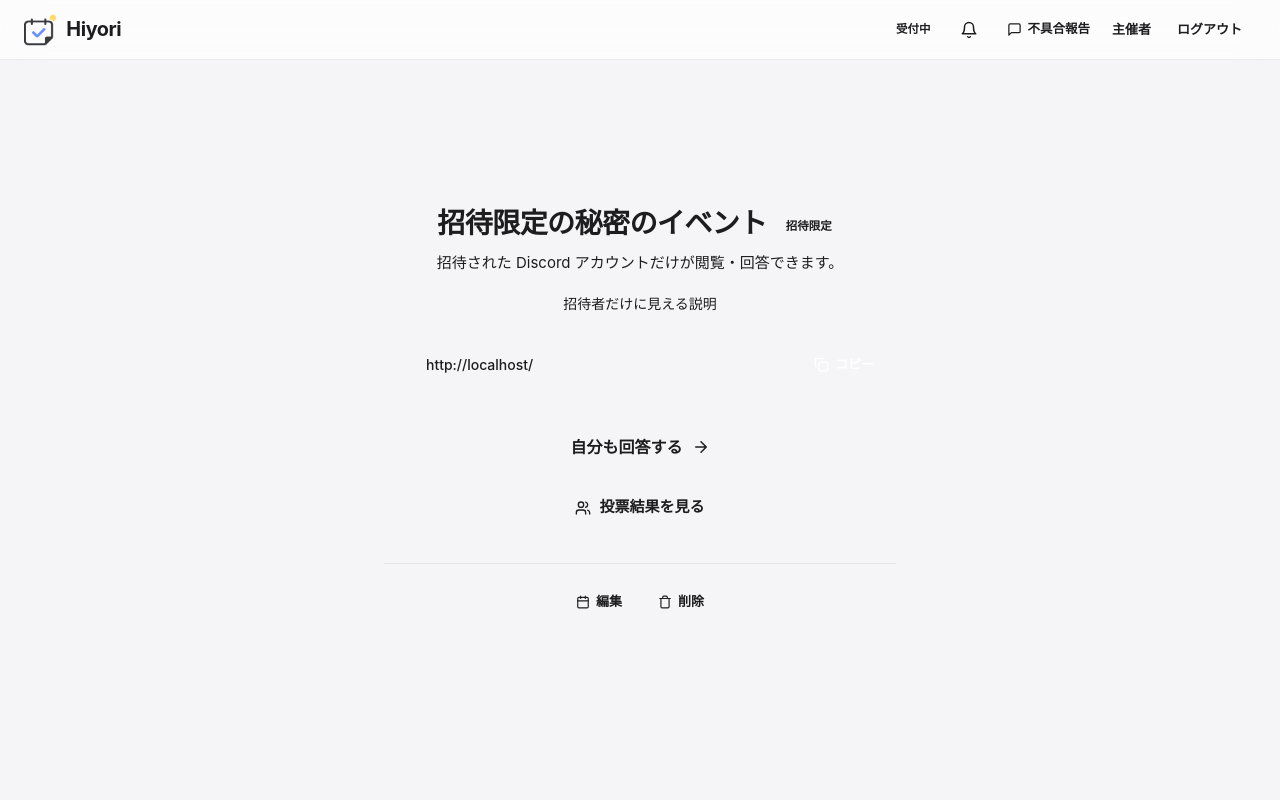
it: イベント詳細 のログアウト › 成功時に表示中の私的データを消し、古い読み込みが後から完了しても戻さない
This screenshot has width=1280, height=800.
Expected: the heading "招待限定の秘密のイベント" is shown, [437, 202, 767, 244]
ログアウトより前の認証付き読み込みを残し、応答を意図的に遅らせる。
Click the button "ログアウト".
click(1210, 30)  # box [1163, 12, 1256, 47]
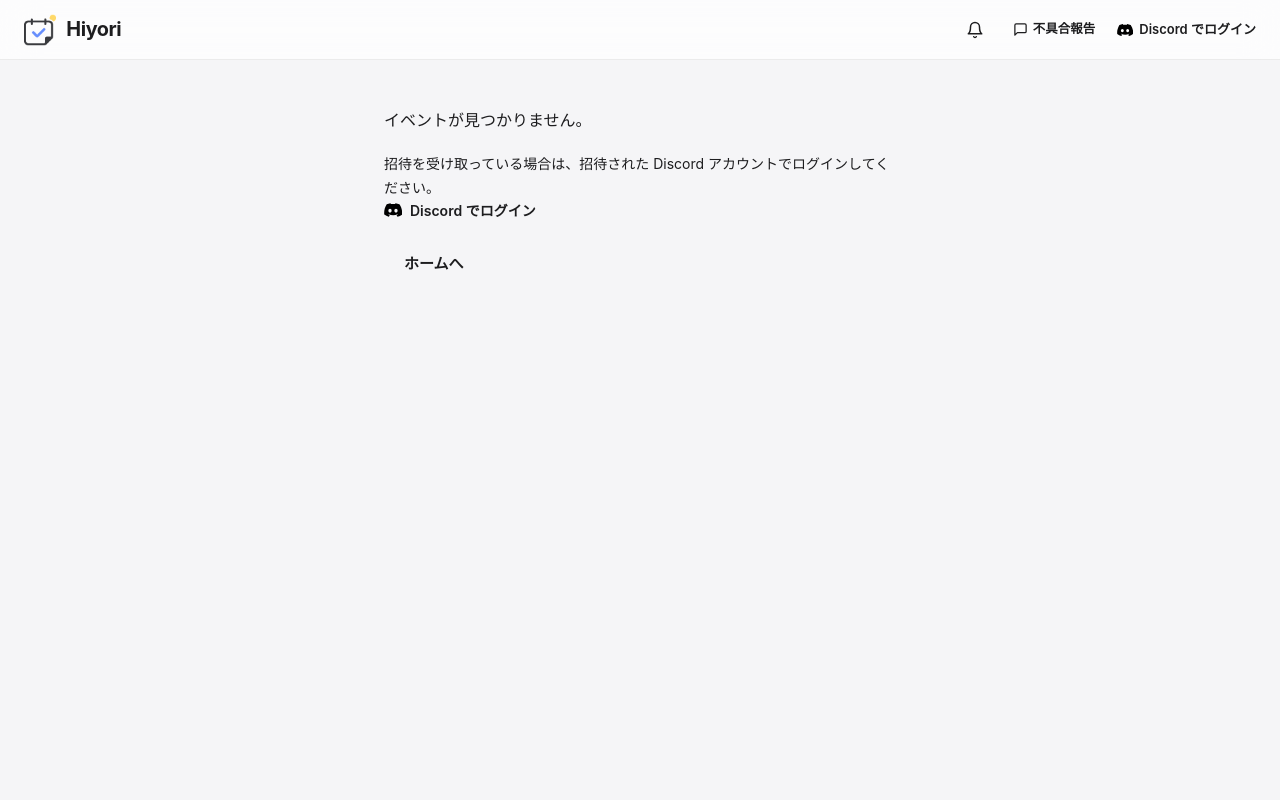
Now the link "Discord でログイン" in the row of "ri" is shown, box [1117, 20, 1256, 39]
Now the text "イベントが見つかりません。" is shown, box [384, 110, 592, 130]
Now the heading "招待限定の秘密のイベント" is gone
